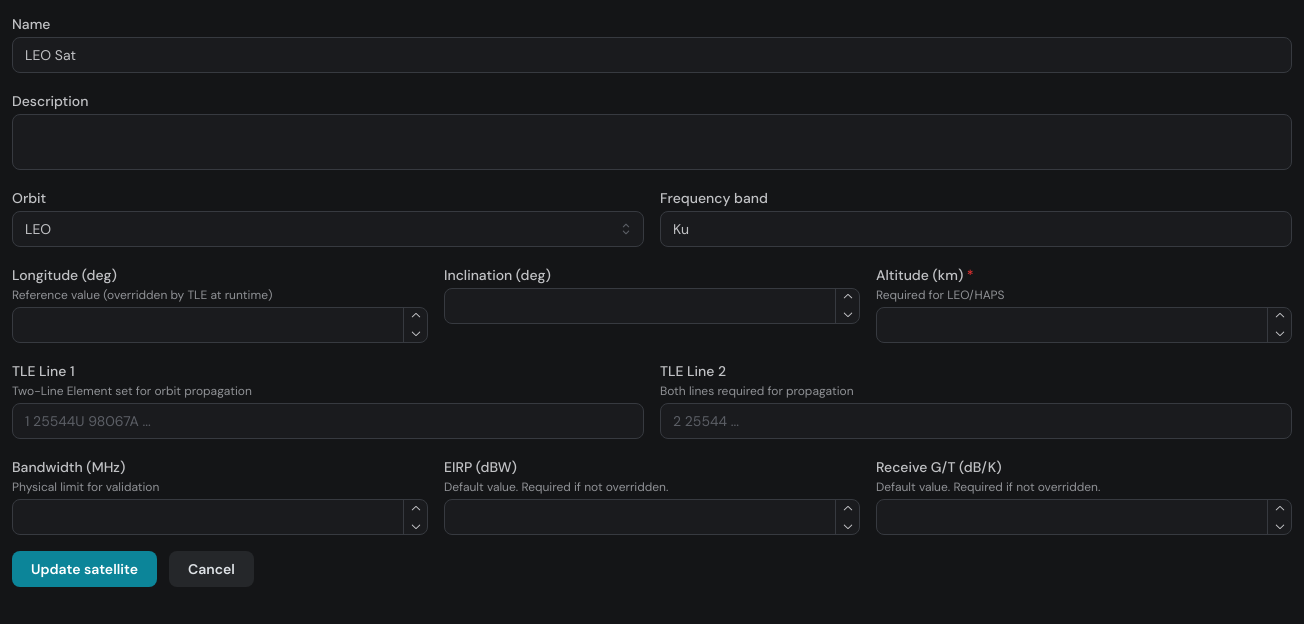
Test: SatelliteForm › requires altitude_km for LEO orbit type
The width and height of the screenshot is (1304, 624).
Click the button "Update satellite" at point(84, 569), box [12,551,157,587]
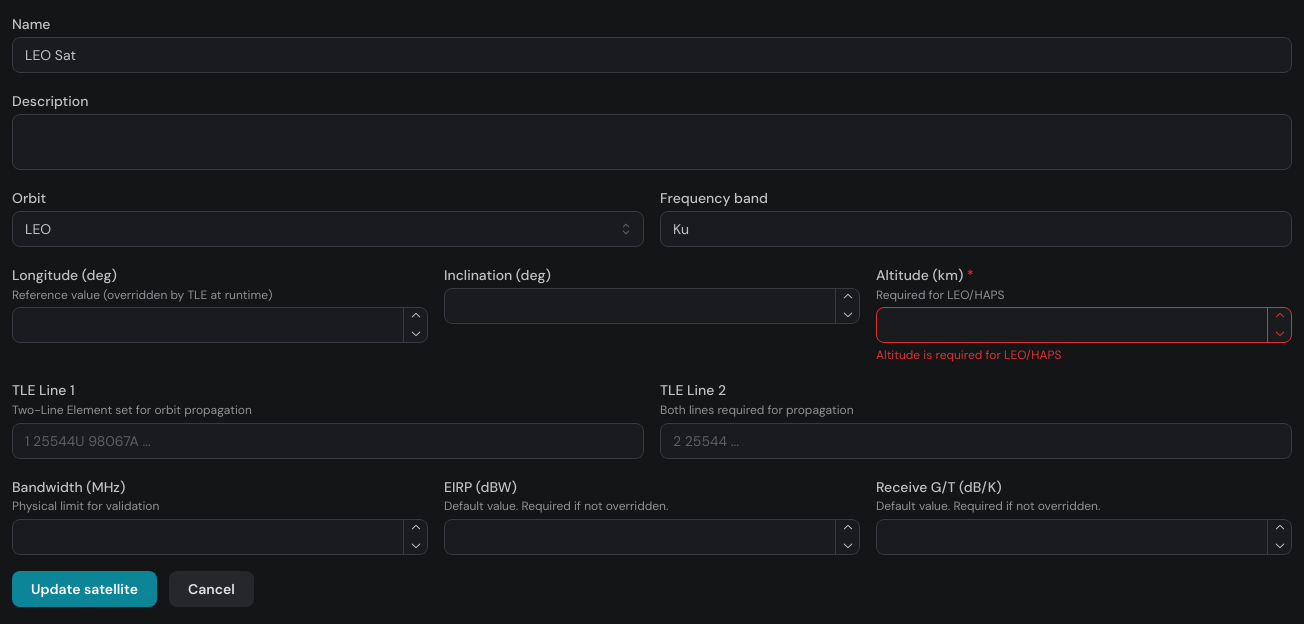
Result: the text "Altitude is required for LEO/HAPS" is shown at [876,347,1061,363]
